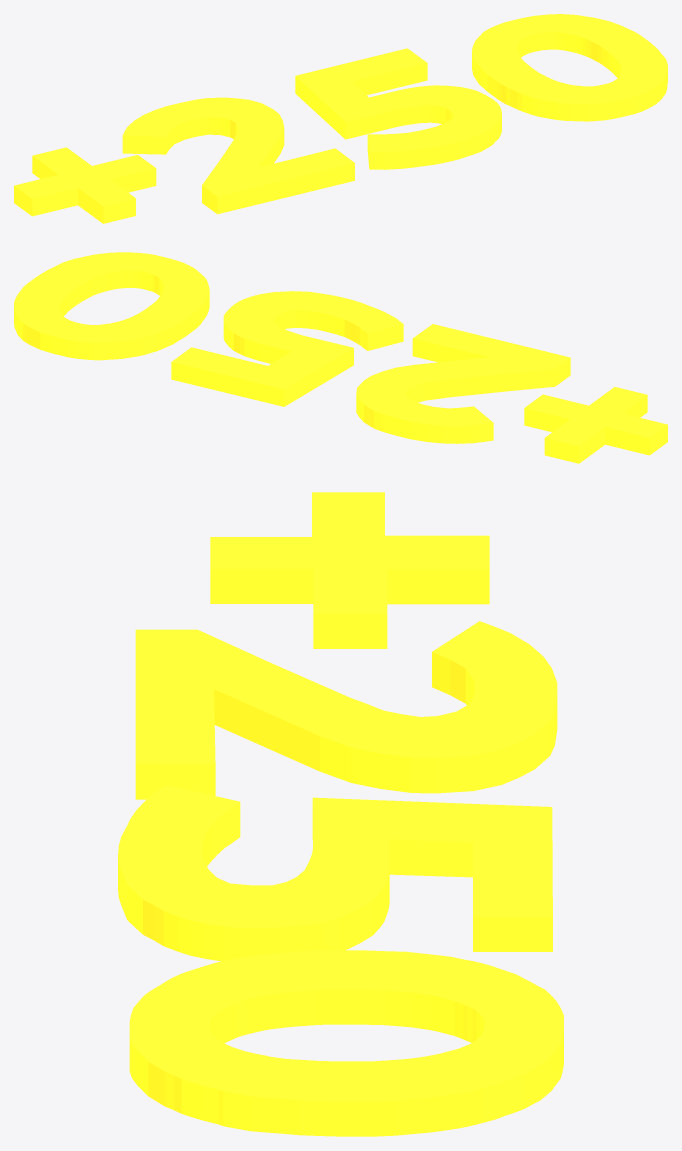
Rendered from plus250.fbx.
3 renders of one model, top to bottom at view 1: azimuth 30°, elevation 25°; view 2: azimuth 150°, elevation 25°; view 3: azimuth 270°, elevation 25°, orthographic. The views are drawn at different scales.
Parts seen in each view (by area): view 1: Plane, Plane.001, Plane.004, Empty.001; view 2: Plane, Plane.001, Plane.004, Empty.001; view 3: Plane.001, Plane, Plane.004, Empty.001.
Part boxes in pixels (x1,y1,x2,y2): Plane: (295,48,501,169); Plane.001: (472,14,667,121); Plane.004: (122,97,354,214); Empty.001: (14,147,156,223); Plane: (171,291,403,406); Plane.001: (14,252,209,360); Plane.004: (356,324,570,443); Empty.001: (524,387,667,463); Plane.001: (129,950,563,1136); Plane: (118,785,552,961); Plane.004: (135,621,557,799); Empty.001: (210,492,489,648).
Bounding box in the file's own units: 179 × 580 × 15.89.
